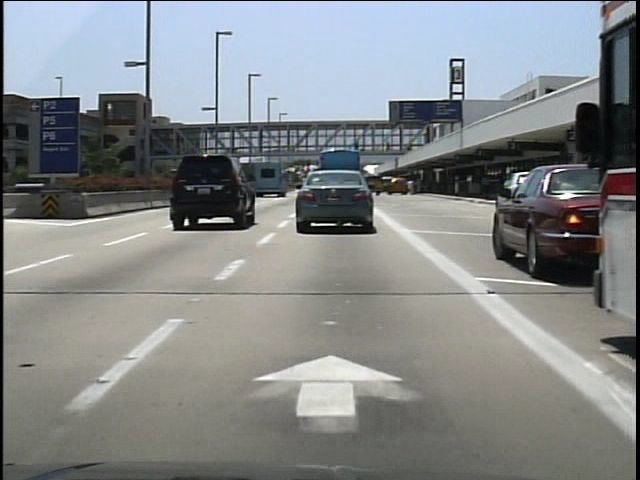person: (402, 176, 416, 200), (382, 136, 395, 158), (349, 136, 362, 156)
